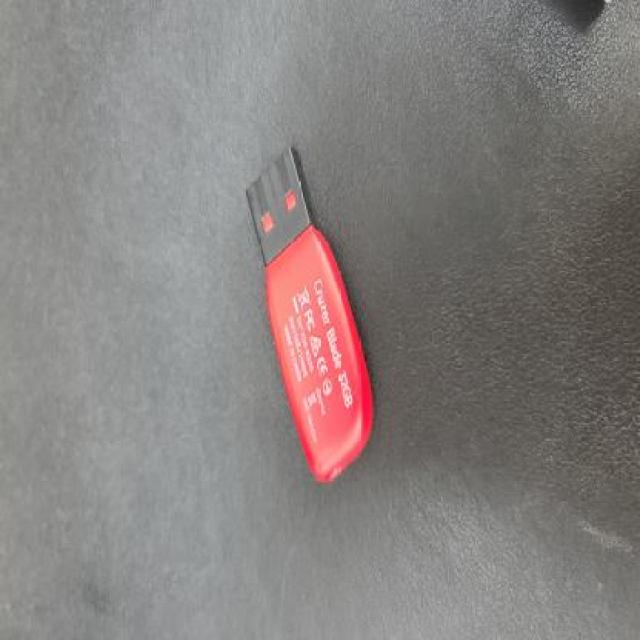Flashdisk: (244, 142, 376, 486)
